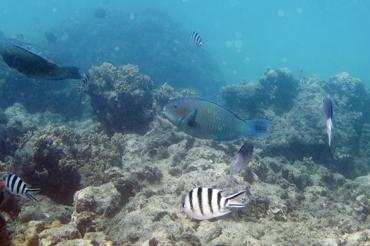Pomacentridae -Damselfishes-: (181, 180, 249, 224), (0, 164, 45, 209)
Scaridae -Parrotfishes-: (157, 88, 273, 146), (0, 32, 86, 93)
